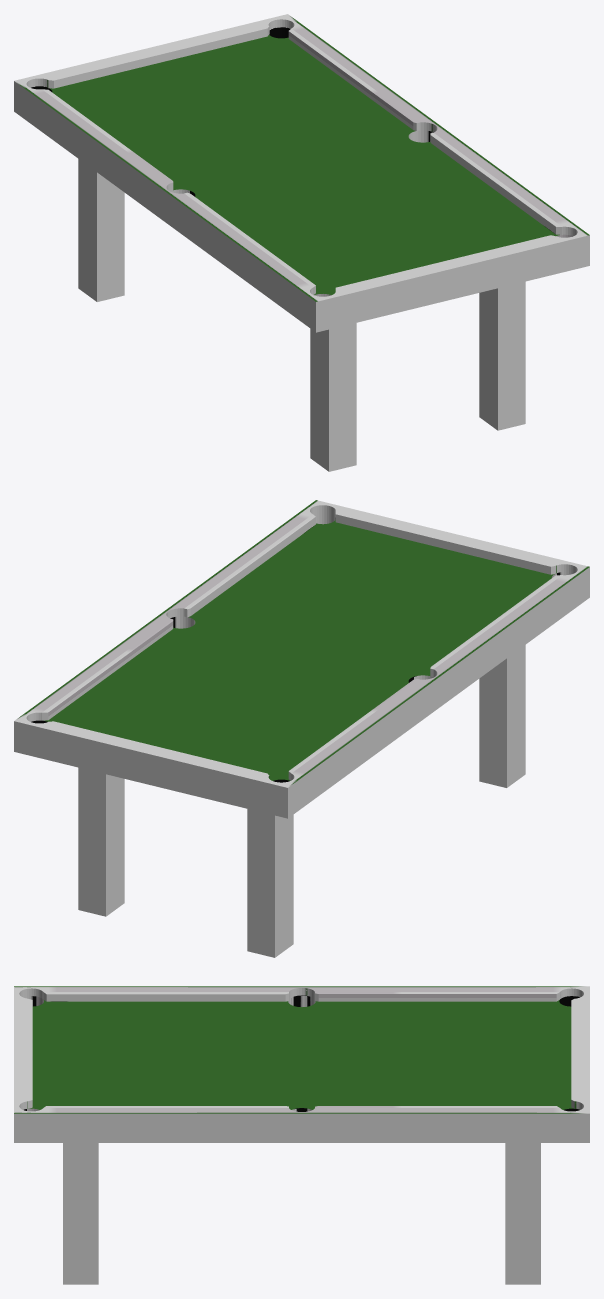
The model's file is StolBilardowyV2.fbx.
The picture shows the model from 3 angles, top to bottom: view 1: azimuth 30°, elevation 25°; view 2: azimuth 150°, elevation 25°; view 3: azimuth 270°, elevation 25°; orthographic projection. The views are drawn at different scales.
Visible parts, largest first — view 1: Cube; view 2: Cube; view 3: Cube.
Boxes of the visible parts, x1,y1,x2,y2 form: Cube: (14,14,589,471); Cube: (14,500,589,957); Cube: (14,986,589,1284).
Size of the model in its own units: 134 by 92.71 by 256.
